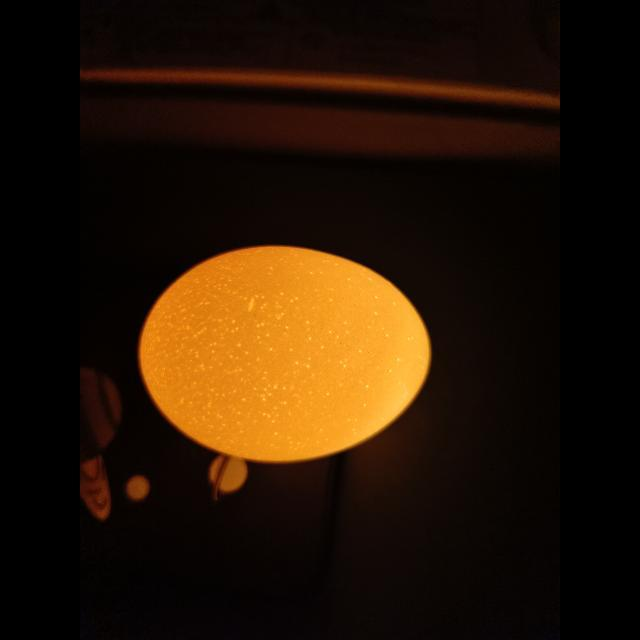AA - Premium: (139, 246, 431, 463)
